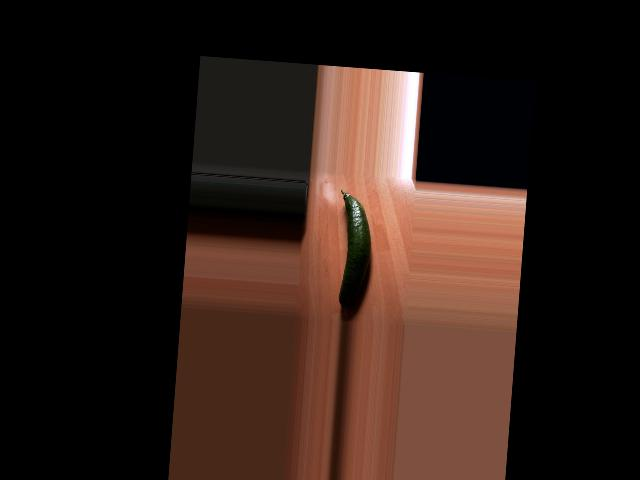cucumber: (332, 189, 376, 310)
